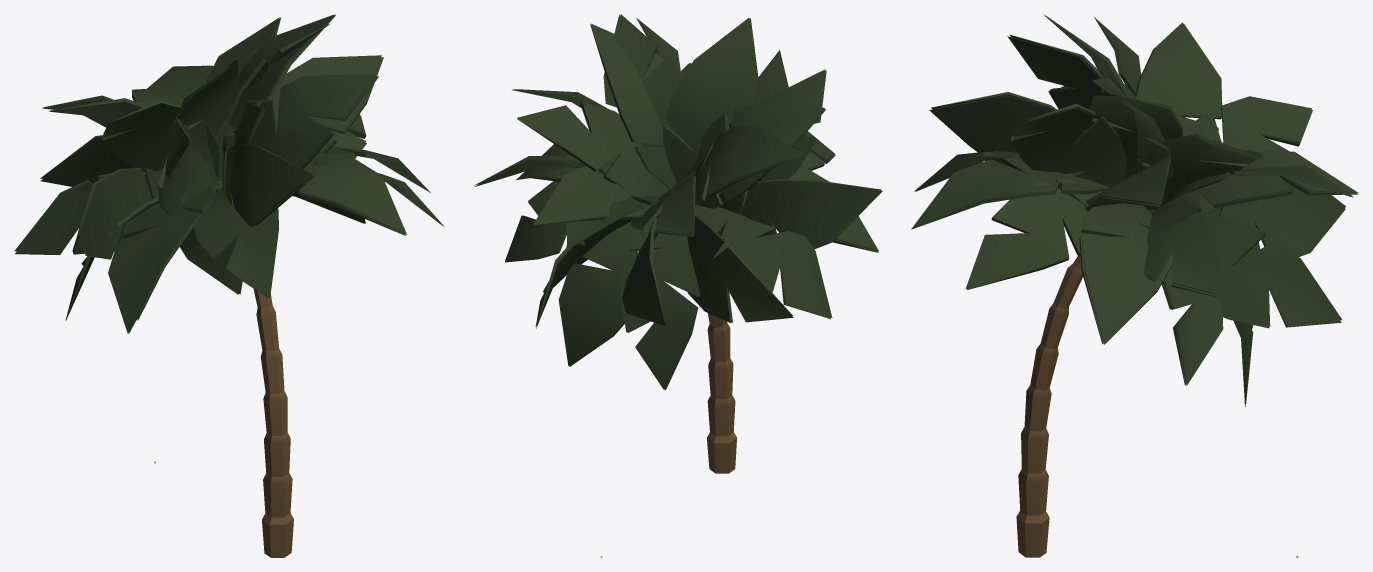
Rendered from palm.fbx.
The picture shows the model from 3 angles, left to right: view 1: azimuth 30°, elevation 25°; view 2: azimuth 150°, elevation 25°; view 3: azimuth 270°, elevation 25°; orthographic projection. The views are drawn at different scales.
Parts seen in each view (by area): view 1: pPlane47, pPlane30, pPlane45, pPlane60, pPlane31, pCylinder12, pPlane20, pPlane32, pPlane21, pPlane61, pCylinder11, pPlane65 (+22 smaller); view 2: pPlane63, pPlane43, pPlane27, pPlane26, pPlane48, pPlane25, pPlane39, pPlane44, pPlane41, pPlane34, pCylinder12, pPlane35 (+27 smaller); view 3: pPlane49, pPlane33, pPlane28, pPlane58, pCylinder11, pPlane64, pPlane46, pPlane32, pPlane41, pPlane52, pPlane36, pPlane53 (+23 smaller).
Boxes of the visible parts, x1,y1,x2,y2 form: pPlane47: (250, 74, 376, 167); pPlane30: (109, 183, 222, 333); pPlane45: (222, 144, 312, 226); pPlane60: (78, 169, 161, 259); pPlane31: (195, 188, 278, 297); pCylinder12: (260, 293, 285, 557); pPlane20: (102, 104, 218, 192); pPlane32: (299, 152, 406, 234); pPlane21: (173, 61, 237, 191); pPlane61: (15, 175, 149, 255); pCylinder11: (253, 289, 293, 557); pPlane65: (261, 55, 381, 153); pPlane63: (694, 179, 881, 248); pPlane43: (663, 18, 757, 183); pPlane27: (559, 219, 641, 366); pPlane26: (695, 192, 832, 317); pPlane48: (687, 216, 792, 321); pPlane25: (621, 222, 699, 389); pPlane39: (517, 103, 668, 196); pPlane44: (590, 24, 682, 188); pPlane41: (695, 125, 801, 201); pPlane34: (534, 165, 660, 224); pCylinder12: (708, 313, 736, 473); pPlane35: (603, 15, 685, 190); pPlane49: (1204, 216, 1342, 326); pPlane33: (1081, 203, 1172, 344); pPlane28: (967, 179, 1103, 289); pPlane58: (1010, 107, 1126, 194); pCylinder11: (1017, 255, 1080, 557); pPlane64: (1144, 198, 1226, 296); pPlane46: (1185, 181, 1345, 263); pPlane32: (912, 157, 1109, 229); pPlane41: (1135, 22, 1221, 129); pPlane52: (929, 95, 1082, 165); pPlane36: (1183, 96, 1311, 211); pPlane53: (1007, 36, 1108, 130).
Size of the model in its own units: 11.5 by 14.72 by 11.39.
